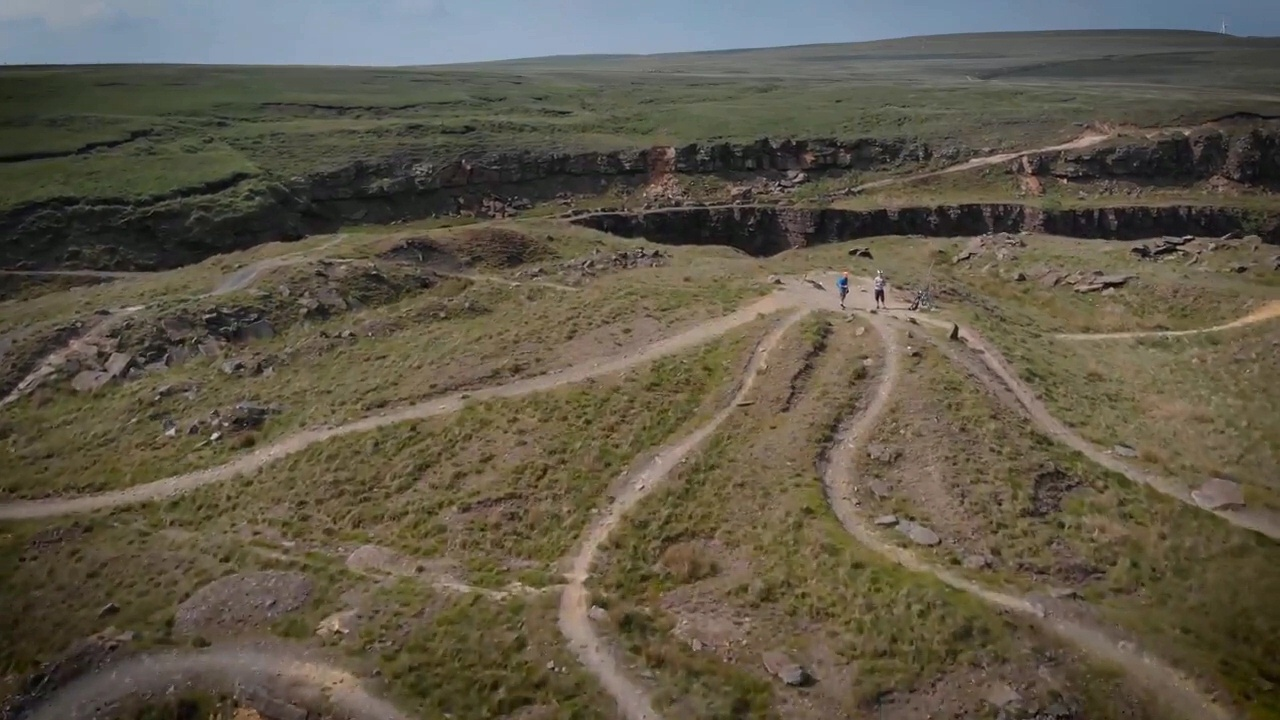insan: (873, 268, 888, 310), (836, 270, 850, 311)
